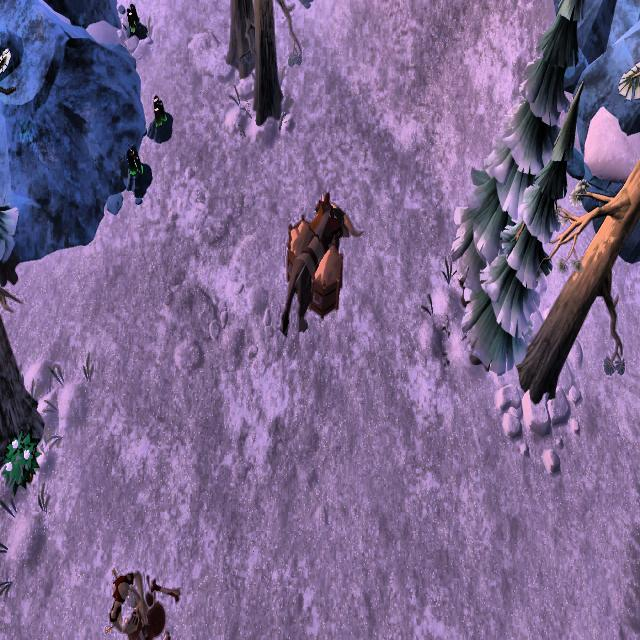enemy_factionUndead: (108, 552, 150, 634)
fiber_t3: (1, 432, 42, 500)
ore_t3: (152, 88, 167, 133), (126, 0, 141, 38), (126, 144, 144, 175)
